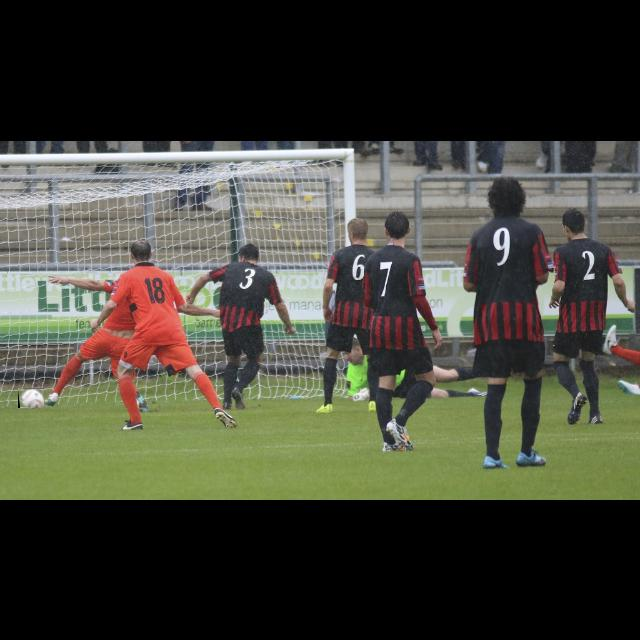Football: (18, 388, 44, 408)
